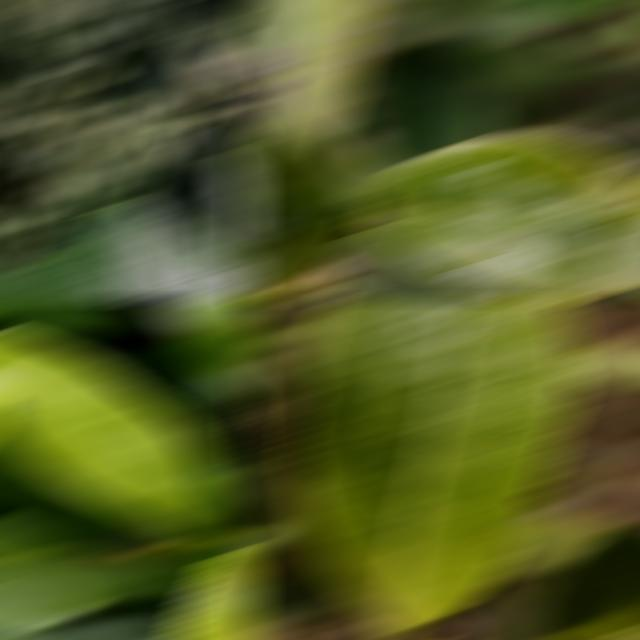Leaf: (287, 303, 582, 630), (360, 136, 640, 297), (0, 335, 219, 529), (0, 205, 258, 297), (240, 112, 366, 288), (240, 3, 372, 147), (0, 519, 150, 633), (357, 48, 503, 160), (336, 232, 537, 297), (524, 525, 640, 637), (167, 122, 254, 251), (149, 303, 258, 398), (497, 505, 611, 585), (97, 39, 213, 110), (103, 3, 174, 96), (193, 451, 258, 530), (212, 151, 258, 260), (147, 547, 243, 586), (564, 342, 640, 386)
